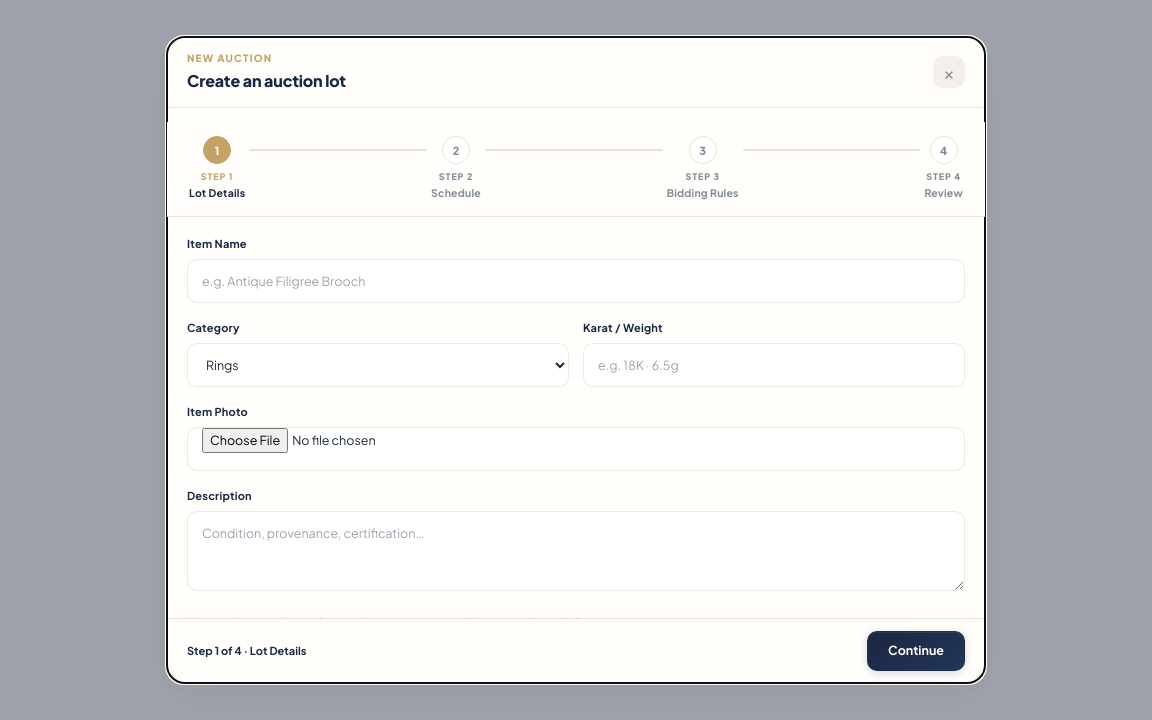
Test: current step is gold, completed shows check, upcoming muted
Type "Test Ring" into the field with placeholder "e.g. Antique Filigree Brooch". click: (576, 280)
box: x1=187 y1=258 x2=965 y2=302
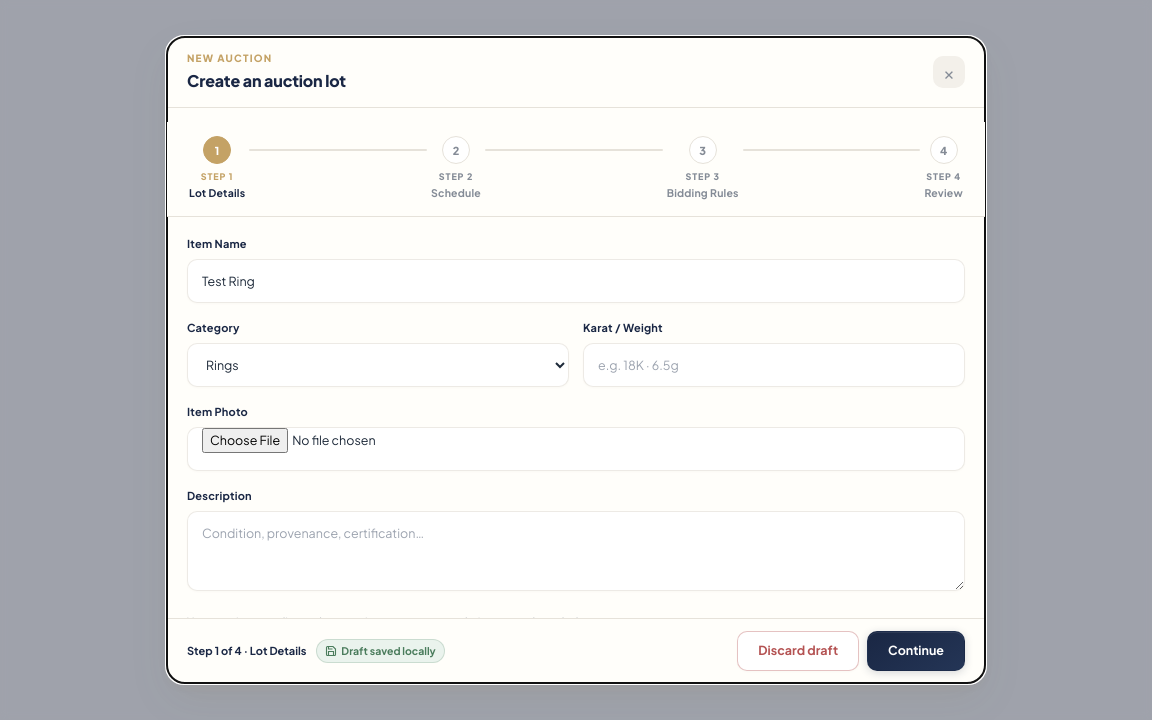
Click the button "Continue". click: (916, 651)
box: x1=867 y1=631 x2=965 y2=671
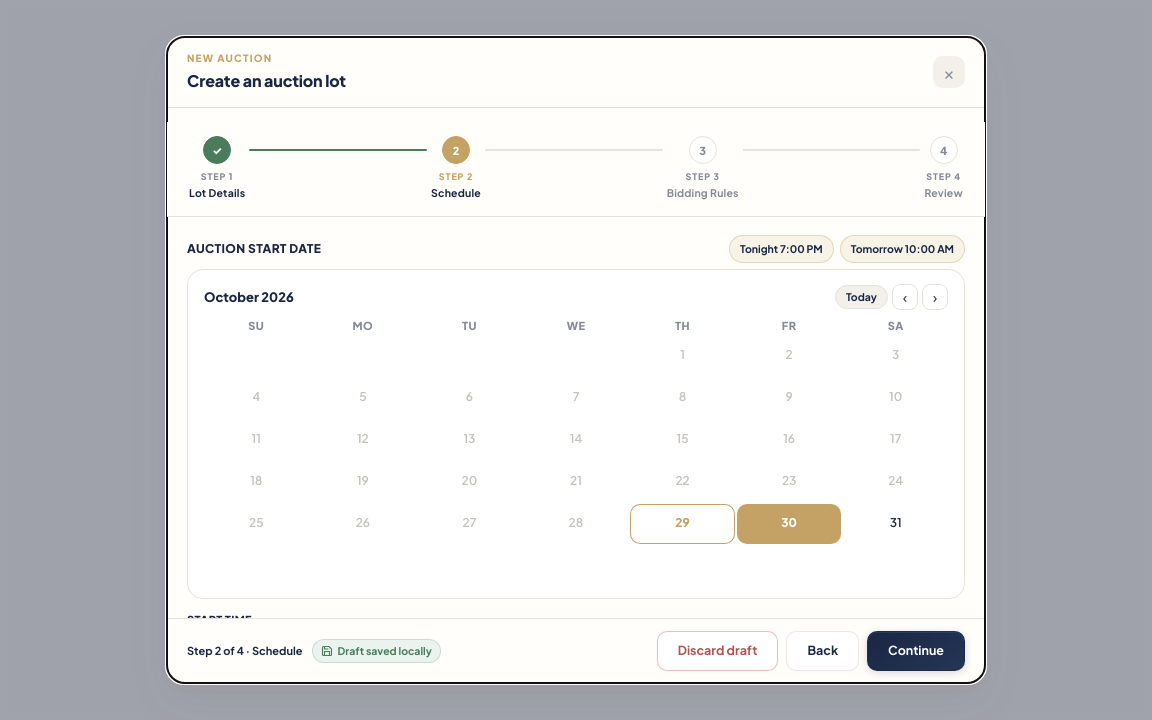
expect the list item with class "wizard-step" shows "✓": met, box x1=187 y1=132 x2=247 y2=206
expect the element with class "is-done" is shown: met, box x1=249 y1=149 x2=427 y2=151
